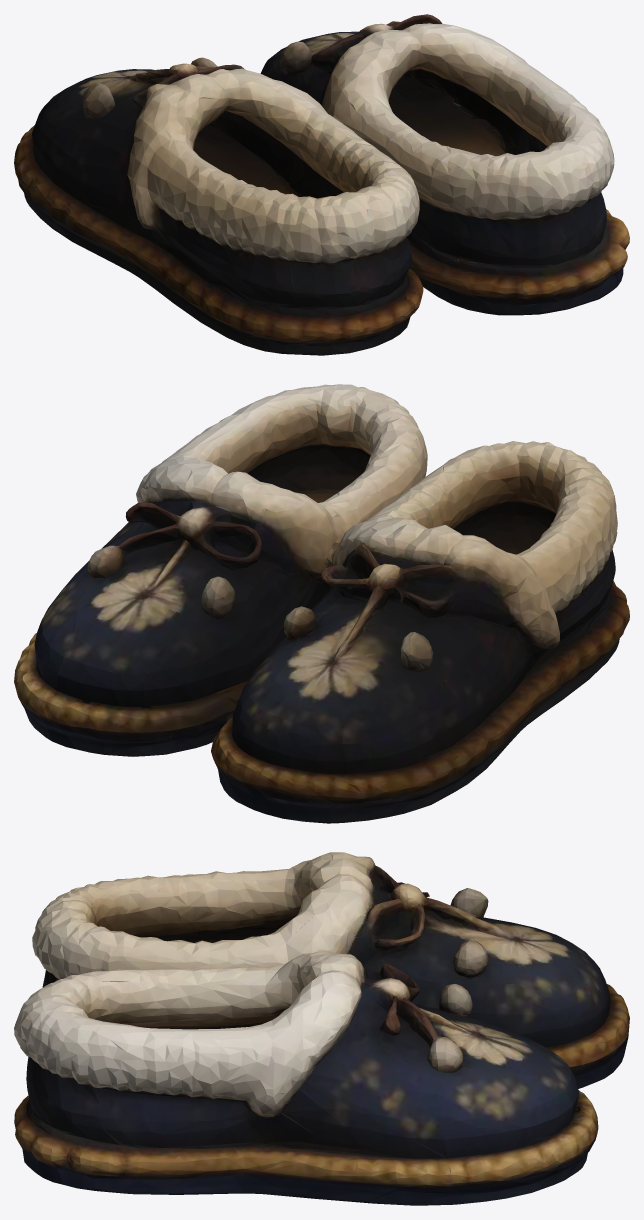
Rendered from cozy-slippers.glb.
The picture shows the model from 3 angles, top to bottom: view 1: azimuth 30°, elevation 25°; view 2: azimuth 150°, elevation 25°; view 3: azimuth 270°, elevation 25°; orthographic projection. The views are drawn at different scales.
Visible parts, largest first — view 1: world; view 2: world; view 3: world.
Part boxes in pixels (box(x1,y1,x2,y2)): world: box(14, 14, 629, 355); world: box(14, 384, 629, 823); world: box(14, 852, 629, 1205).
Size of the model in its own units: 0.8262 by 0.3296 by 0.9997.
Materials: 1 (1 with a texture image).
